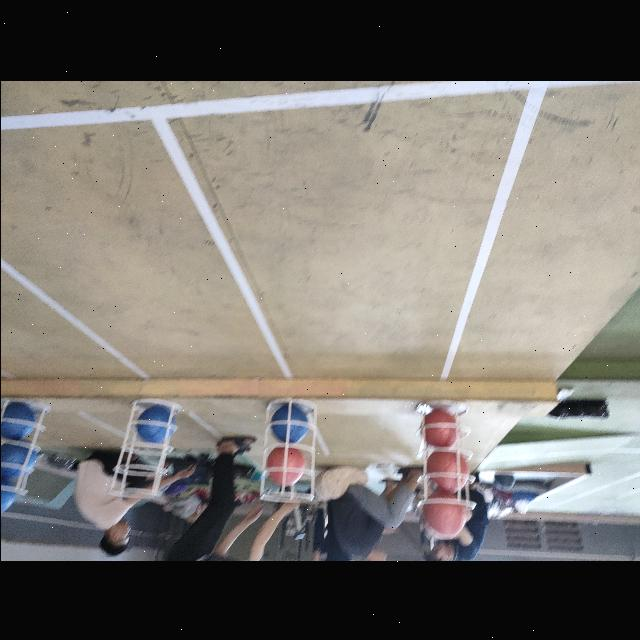B: (270, 404, 310, 444), (134, 405, 174, 443), (0, 438, 36, 478), (1, 403, 36, 437), (1, 482, 18, 512)
R: (422, 489, 468, 536), (422, 448, 466, 488), (262, 446, 304, 486), (418, 410, 458, 446)
